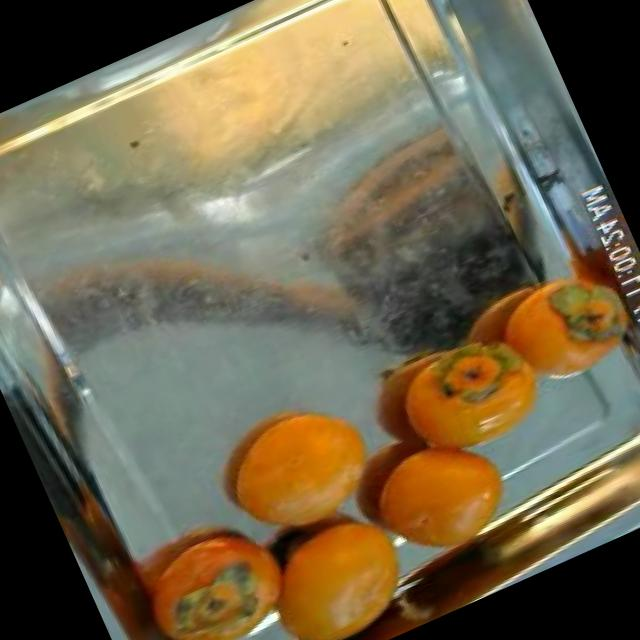Fruit: (182, 362, 416, 575), (316, 390, 542, 591), (96, 470, 325, 640), (222, 478, 443, 640)
